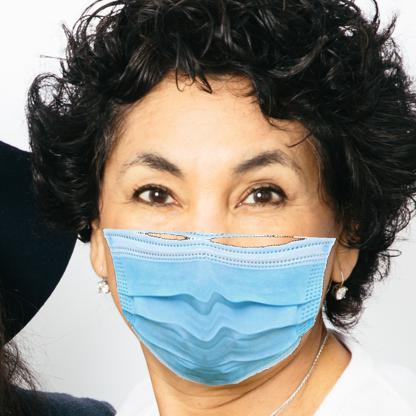mask: (99, 226, 338, 396)
